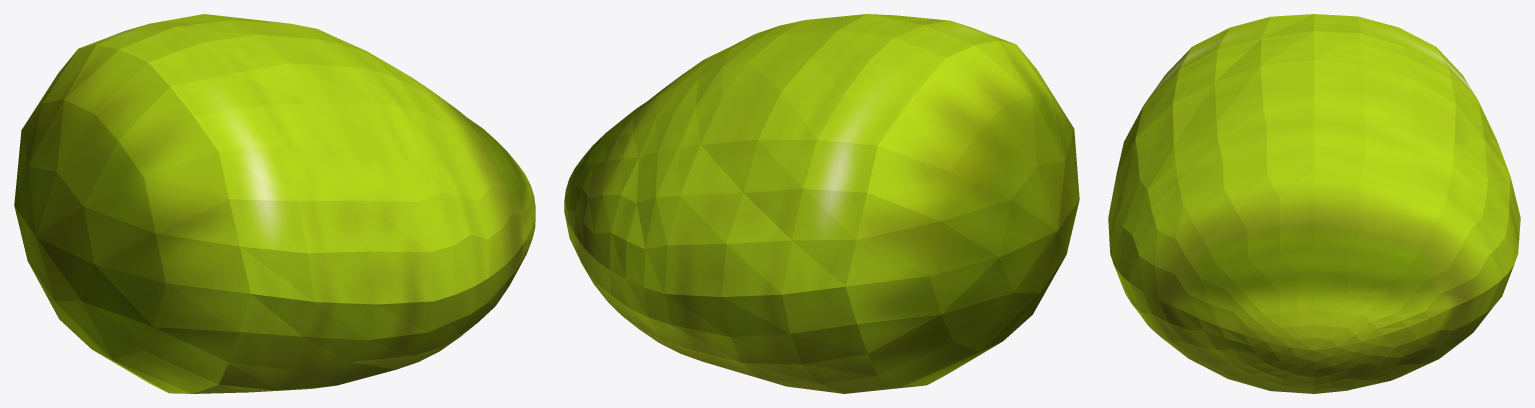
The model's file is worm1.obj.
3 views of the same model, side by side, from view 1: azimuth 30°, elevation 25°; view 2: azimuth 150°, elevation 25°; view 3: azimuth 270°, elevation 25° (orthographic). The views are drawn at different scales.
Visible parts, largest first — view 1: ColobotMesh_1_ColobotMesh_; view 2: ColobotMesh_1_ColobotMesh_; view 3: ColobotMesh_1_ColobotMesh_.
Part boxes in pixels (<box>): ColobotMesh_1_ColobotMesh_: <box>14,14,535,393</box>; ColobotMesh_1_ColobotMesh_: <box>564,14,1079,393</box>; ColobotMesh_1_ColobotMesh_: <box>1108,14,1520,393</box>.
Size of the model in its own units: 2.83 by 1.91 by 2.44.
